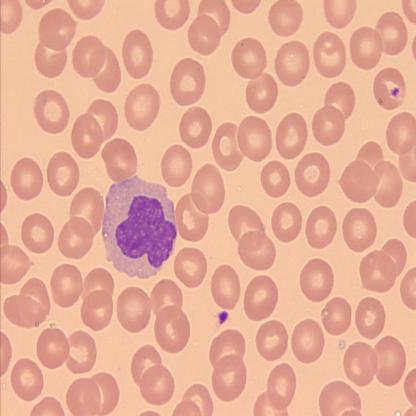Atypical lymphocyte: (101, 174, 176, 278)
